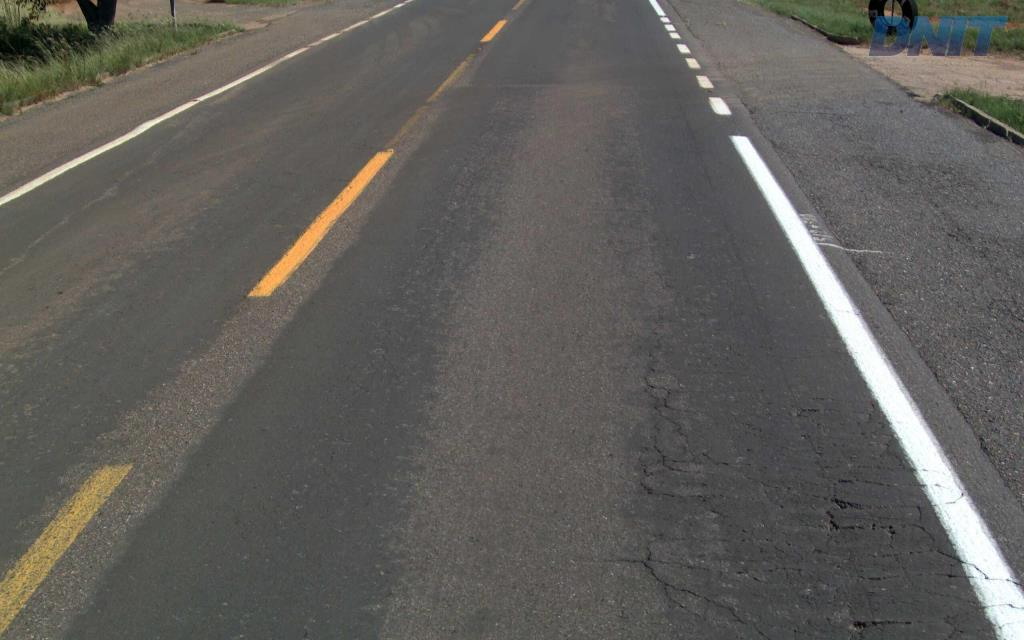crack: (620, 542, 700, 608), (822, 482, 898, 549), (820, 585, 912, 639), (781, 563, 835, 610), (829, 547, 865, 583), (787, 617, 844, 639)
